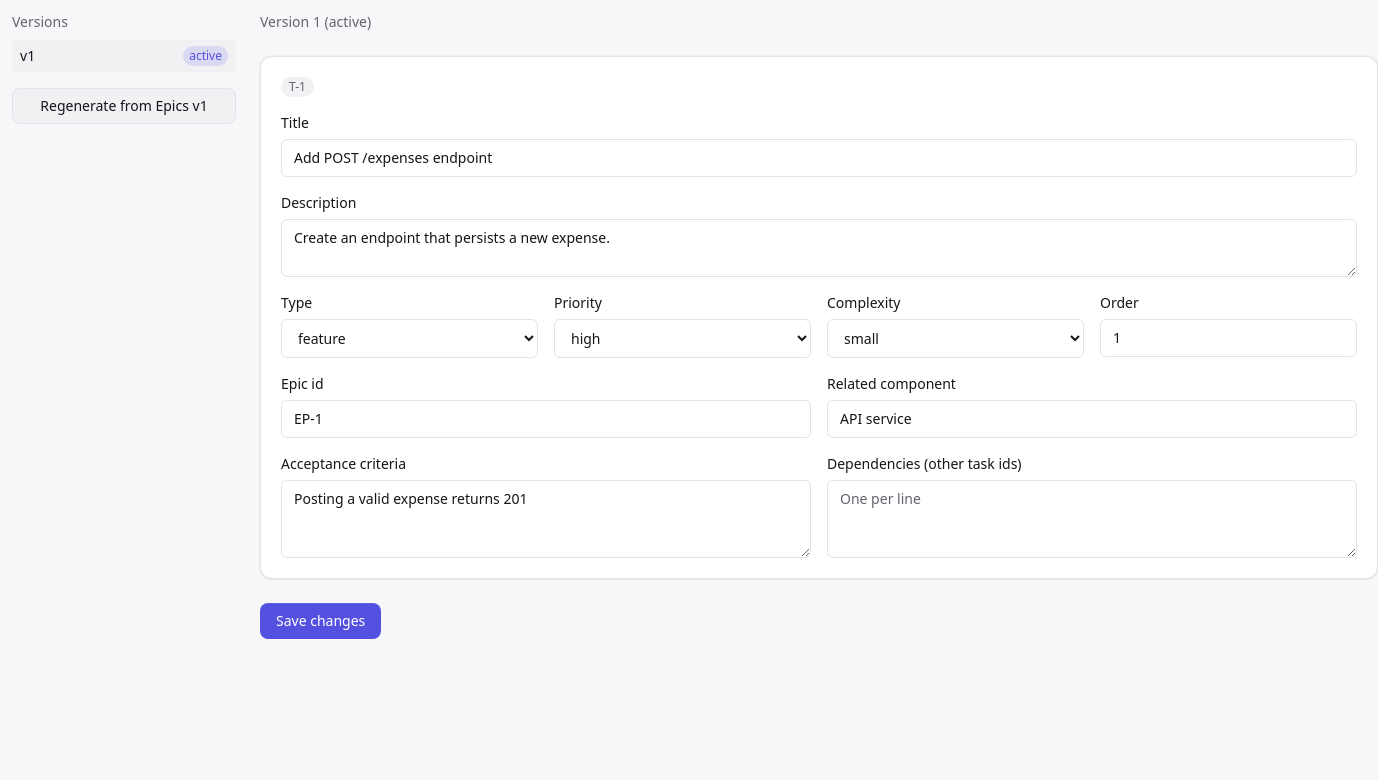
Scenario: TaskSection — populated state › saves edited item fields via PATCH and surfaces a server error if it fails
Expected: the text "T-1" is shown, [281,77,314,97]
Replace the text in the field labelled "Title" with "Edited title" at point(819, 158), box [281,139,1357,177]
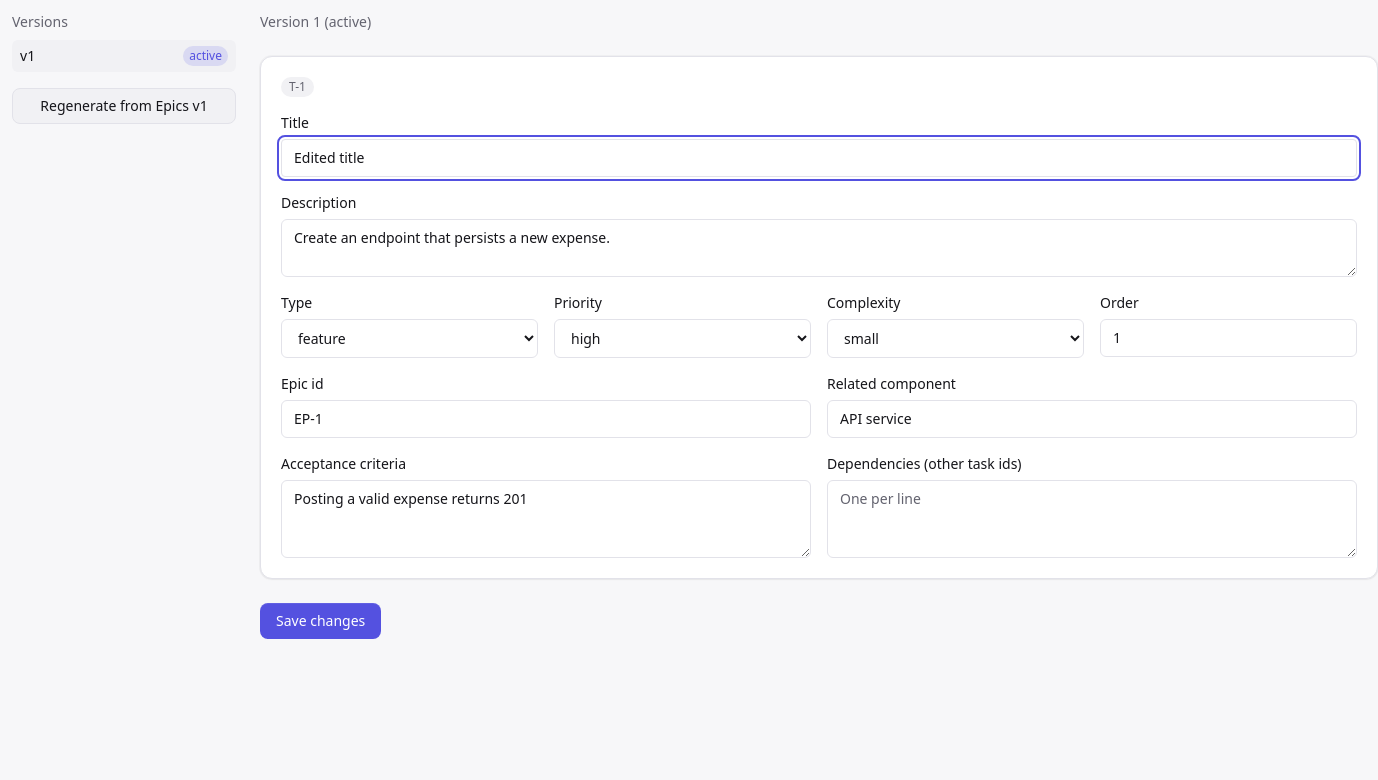
Click the button "Save changes" at point(321, 621), box [260,603,381,639]
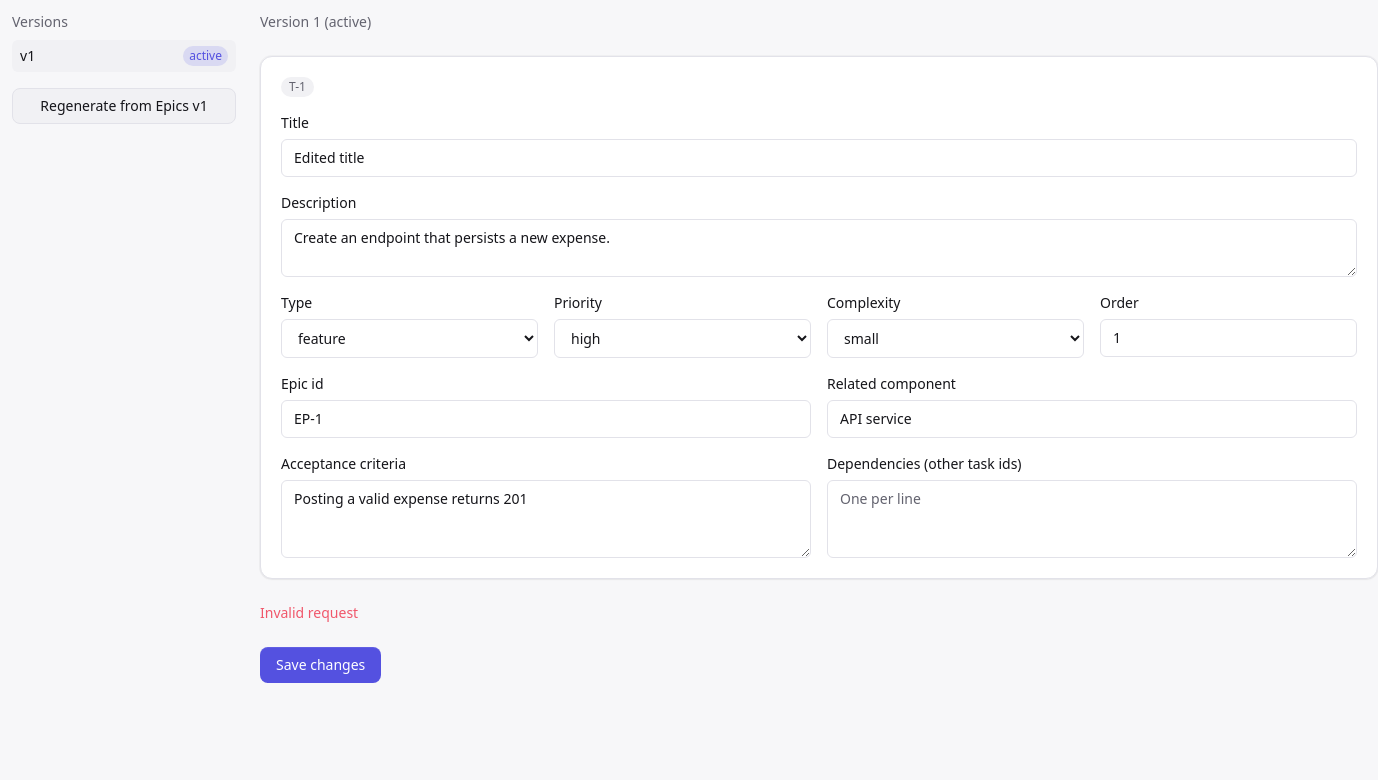
Now the text "Invalid request" is shown, box [260,603,358,622]
